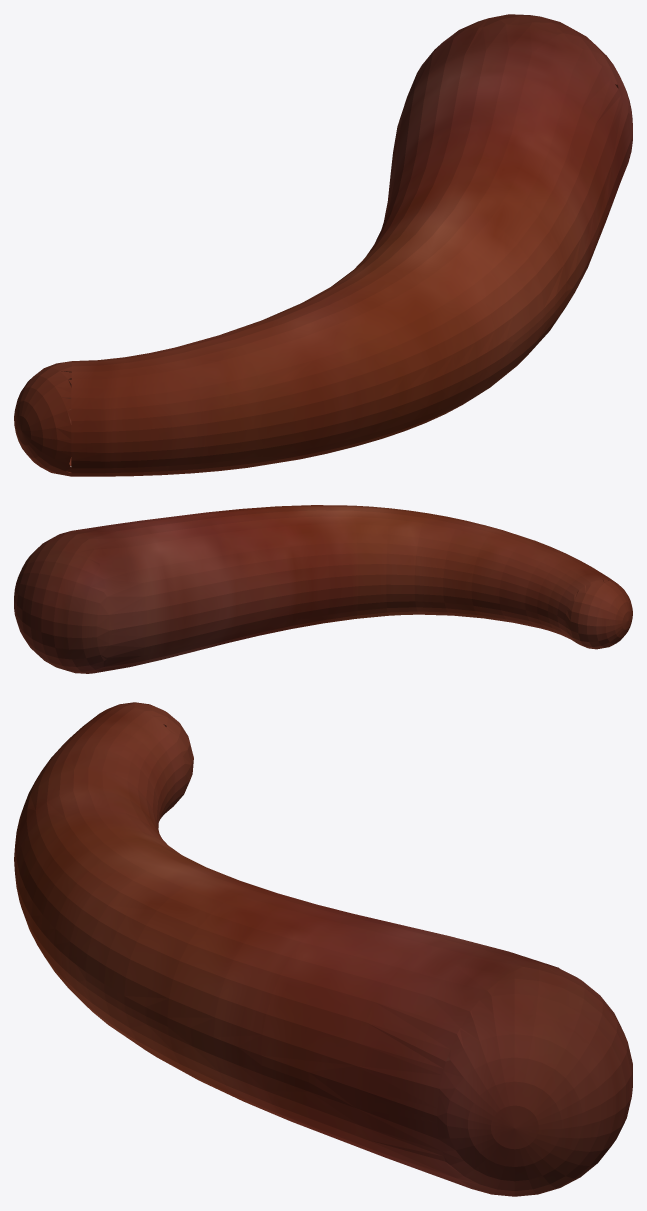
The model's file is thumb_texture.dae.
3 renders of one model, top to bottom at view 1: azimuth 30°, elevation 25°; view 2: azimuth 150°, elevation 25°; view 3: azimuth 270°, elevation 25°, orthographic. The views are drawn at different scales.
Visible parts, largest first — view 1: SketchUp; view 2: SketchUp; view 3: SketchUp.
Part boxes in pixels (left/top/right/bottom): SketchUp: left=14, top=14, right=632, bottom=476; SketchUp: left=14, top=505, right=632, bottom=673; SketchUp: left=14, top=702, right=632, bottom=1196.
Bounding box in the file's own units: 0.9202 × 0.614 × 0.2349.
1 material, 1 textured.
